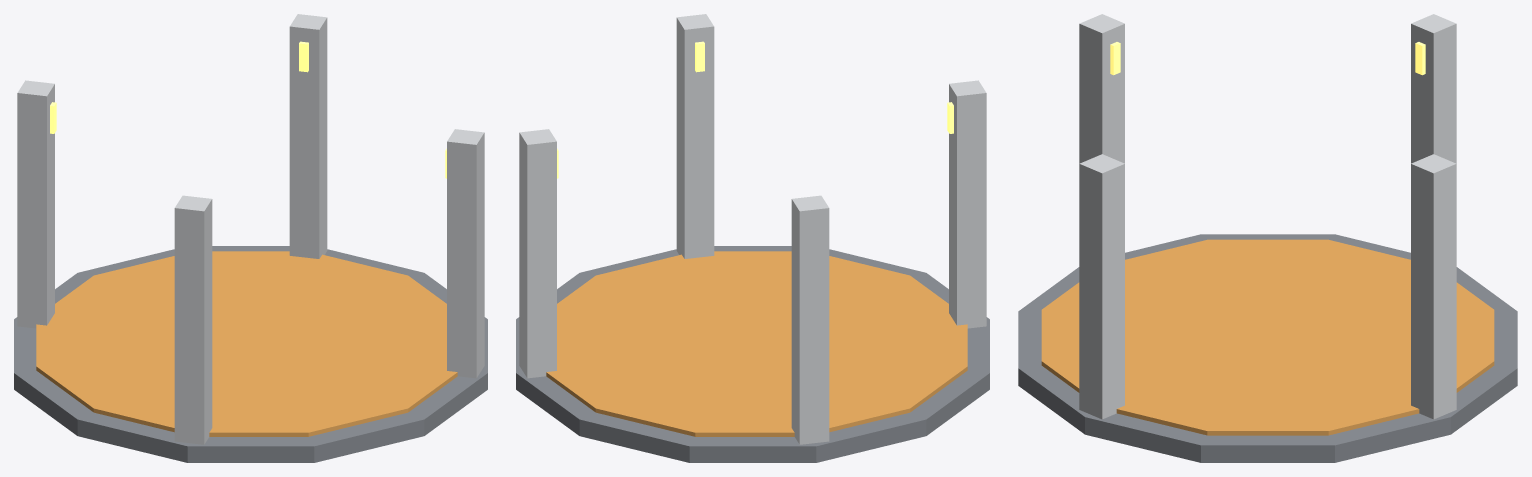
Rendered from pod-cradle.glb.
3 renders of one model, left to right at view 1: azimuth 30°, elevation 25°; view 2: azimuth 150°, elevation 25°; view 3: azimuth 270°, elevation 25°, orthographic. The views are drawn at different scales.
Visible parts, largest first — view 1: cradle; view 2: cradle; view 3: cradle.
Boxes of the visible parts, x1=… form: cradle: x1=14, y1=14, x2=487, y2=462; cradle: x1=516, y1=14, x2=989, y2=462; cradle: x1=1018, y1=14, x2=1517, y2=462.
Size of the model in its own units: 3.09 by 1.8 by 3.09.
